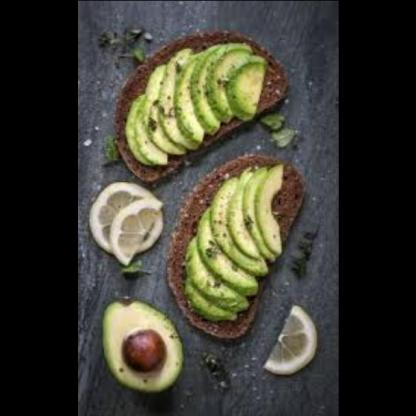avocado: (111, 42, 278, 166), (180, 167, 291, 324), (99, 290, 188, 394)
